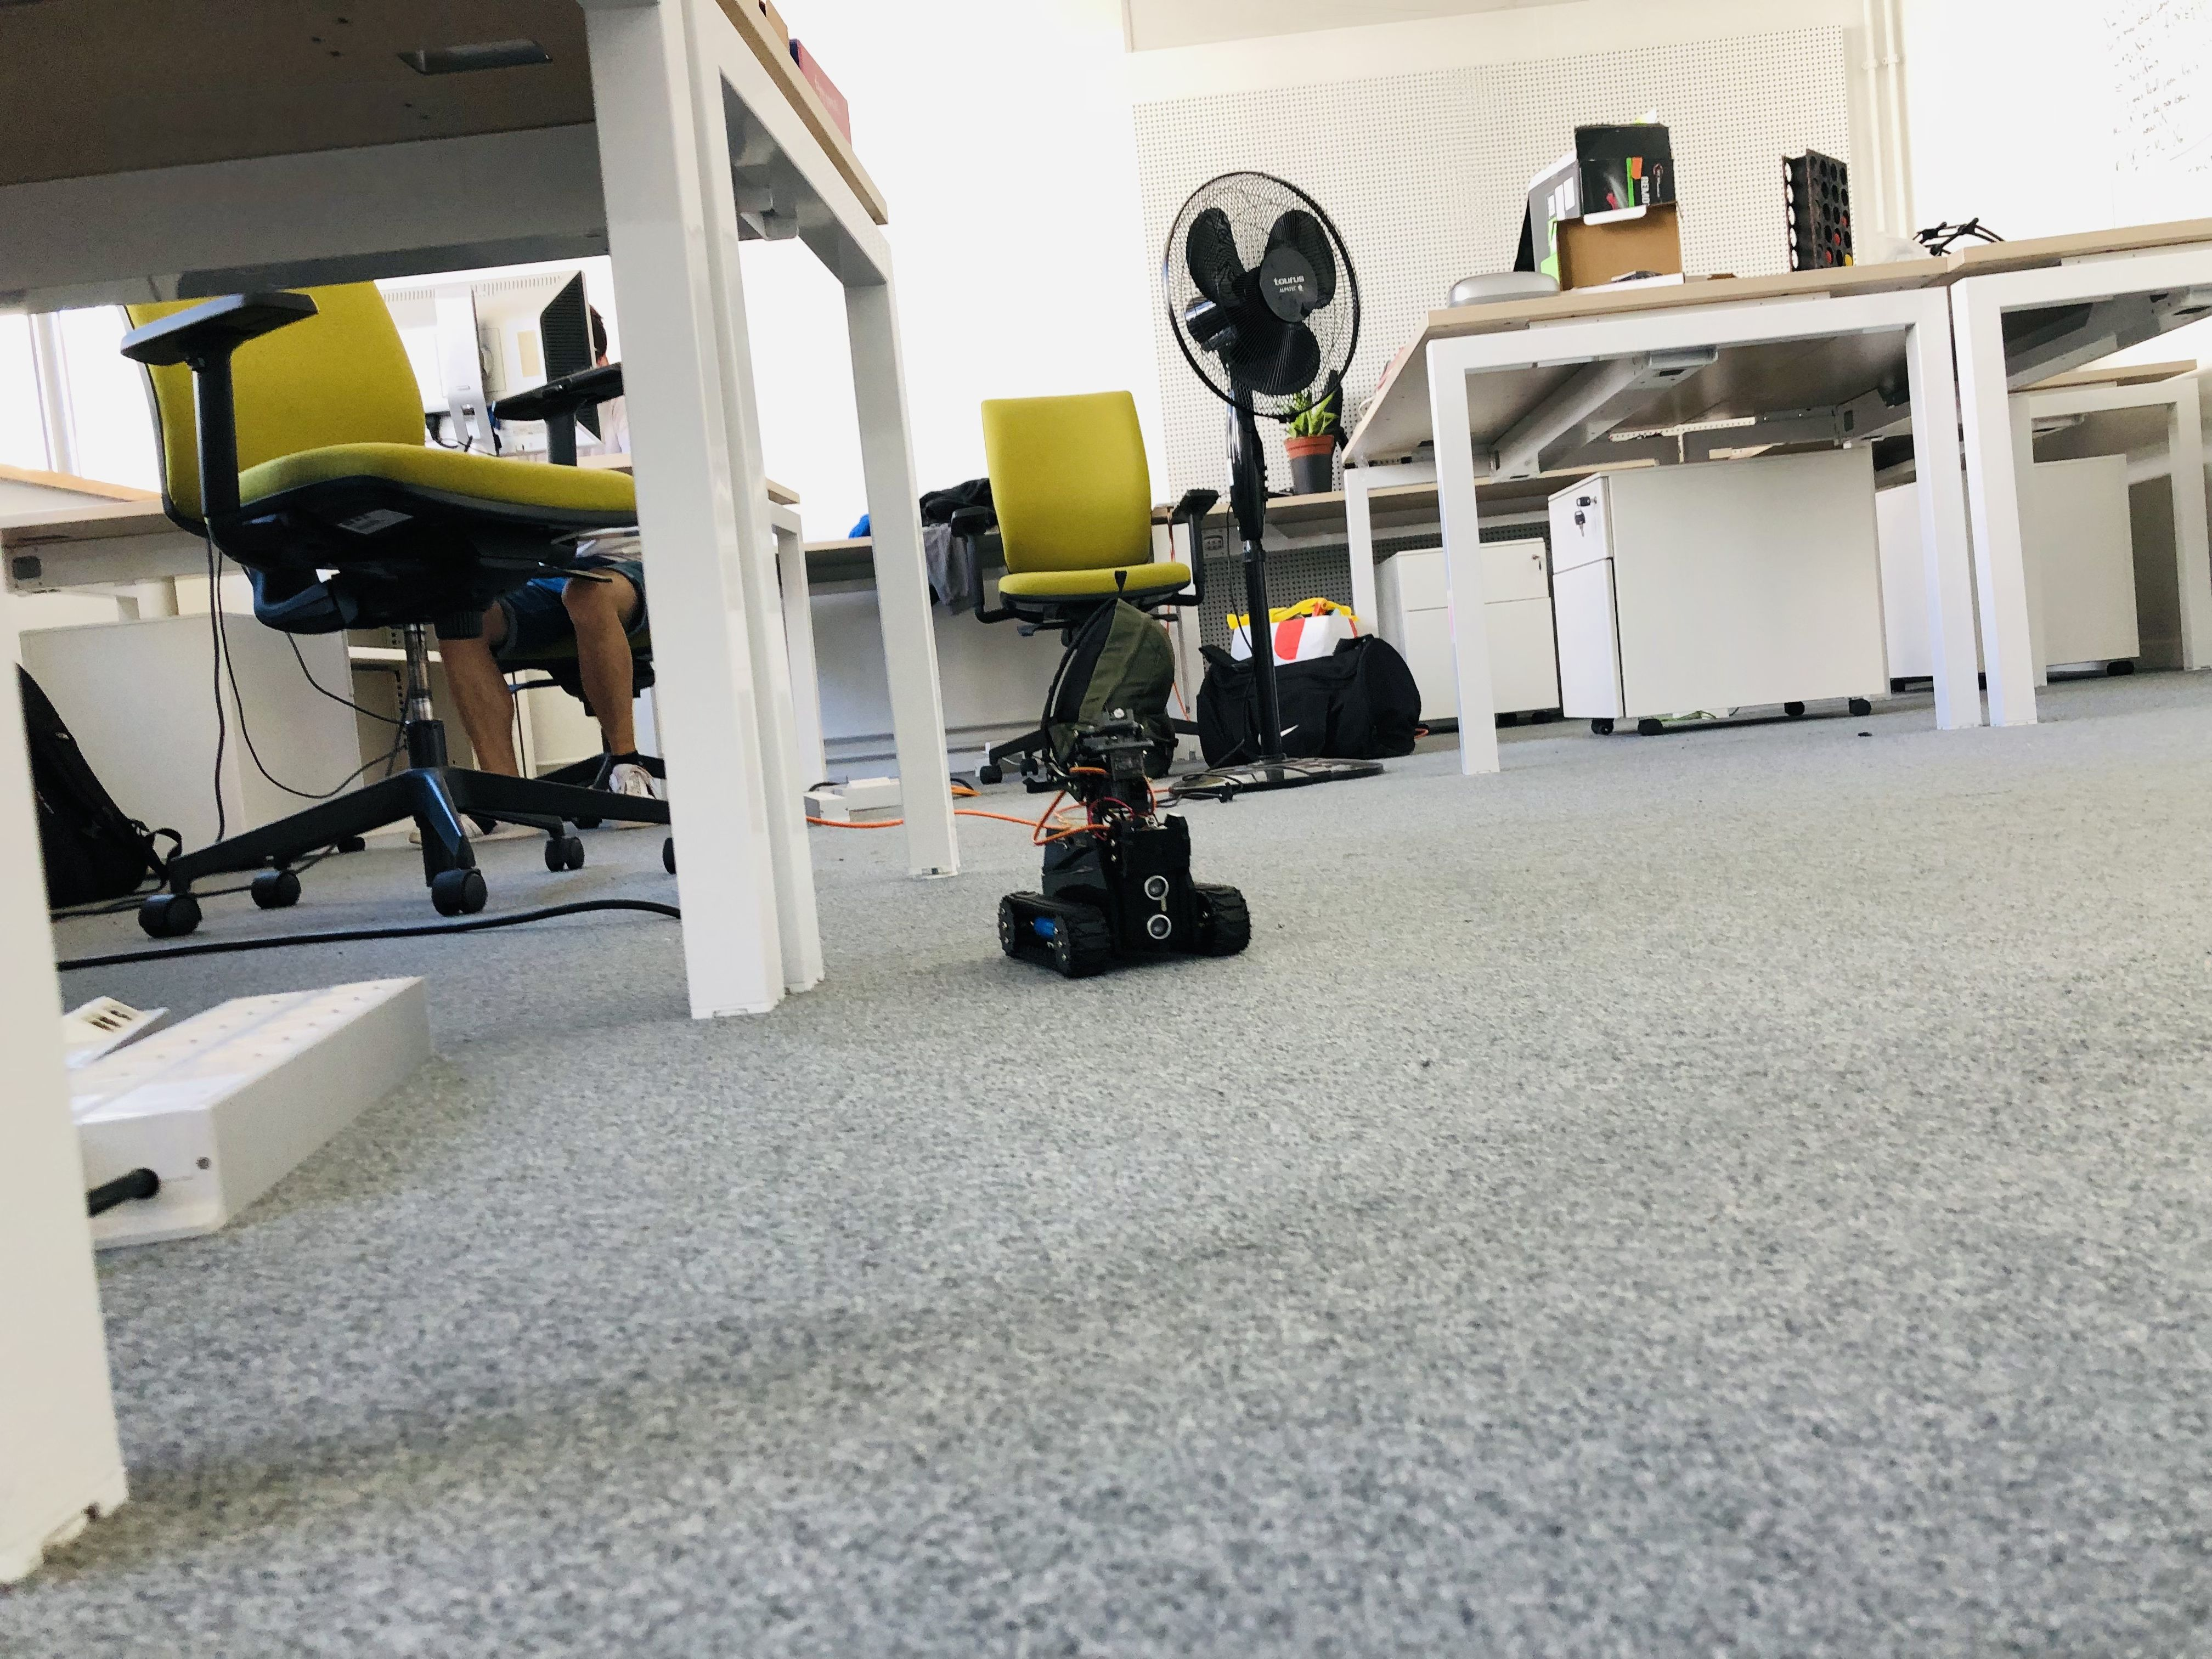rasptank: (996, 709, 1251, 986)
